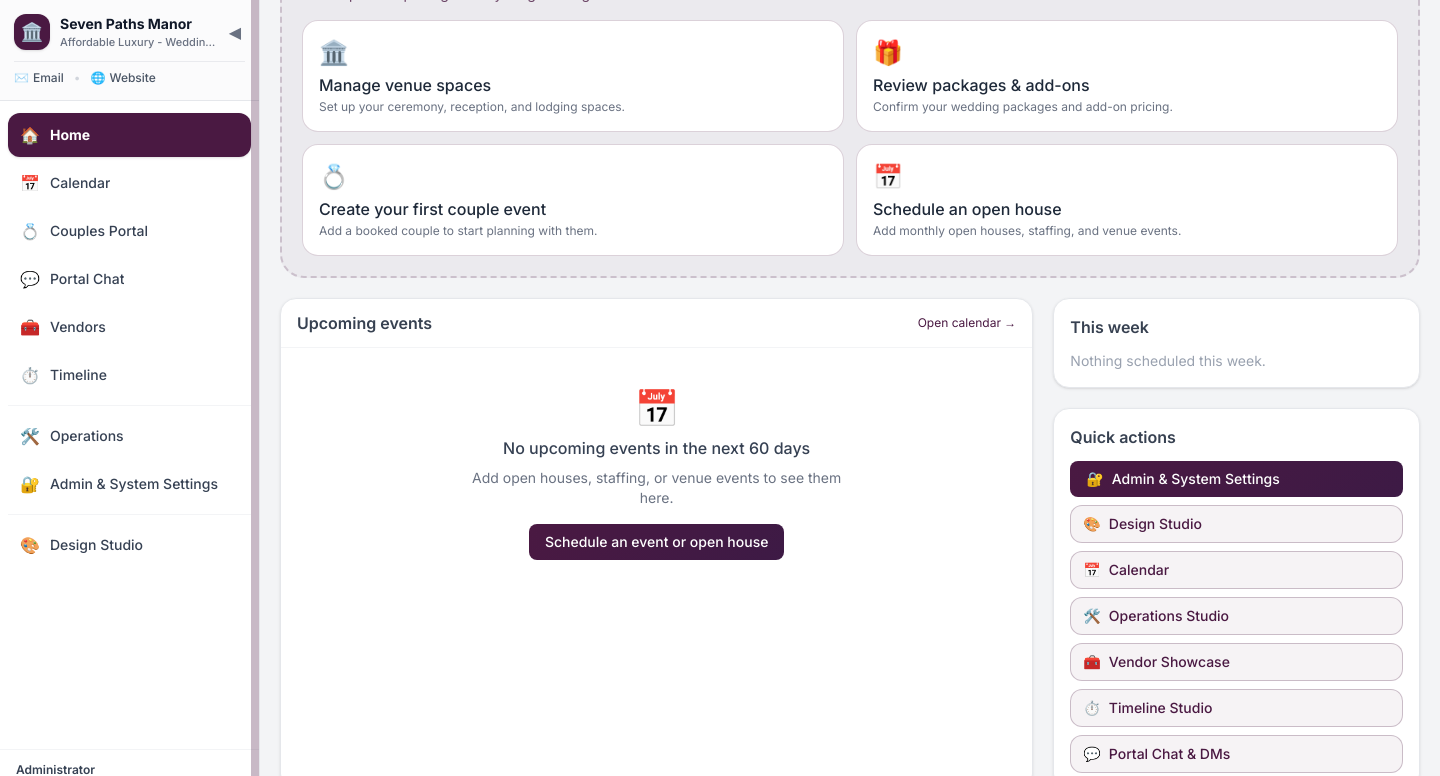
it: Venue Portal Navigation & Dashboard Inline Panels (#144) › keeps user on #/home when clicking Vendors and closing Vendors returns to dashboard home
(page scrolled)
# Click "Vendor Showcase" quick action button
What coordinates should you click on to do the following:
click the button "🧰 Vendor Showcase"
I would click on:
 (1169, 662)
Its box is top-left (1070, 643), bottom-right (1403, 681).
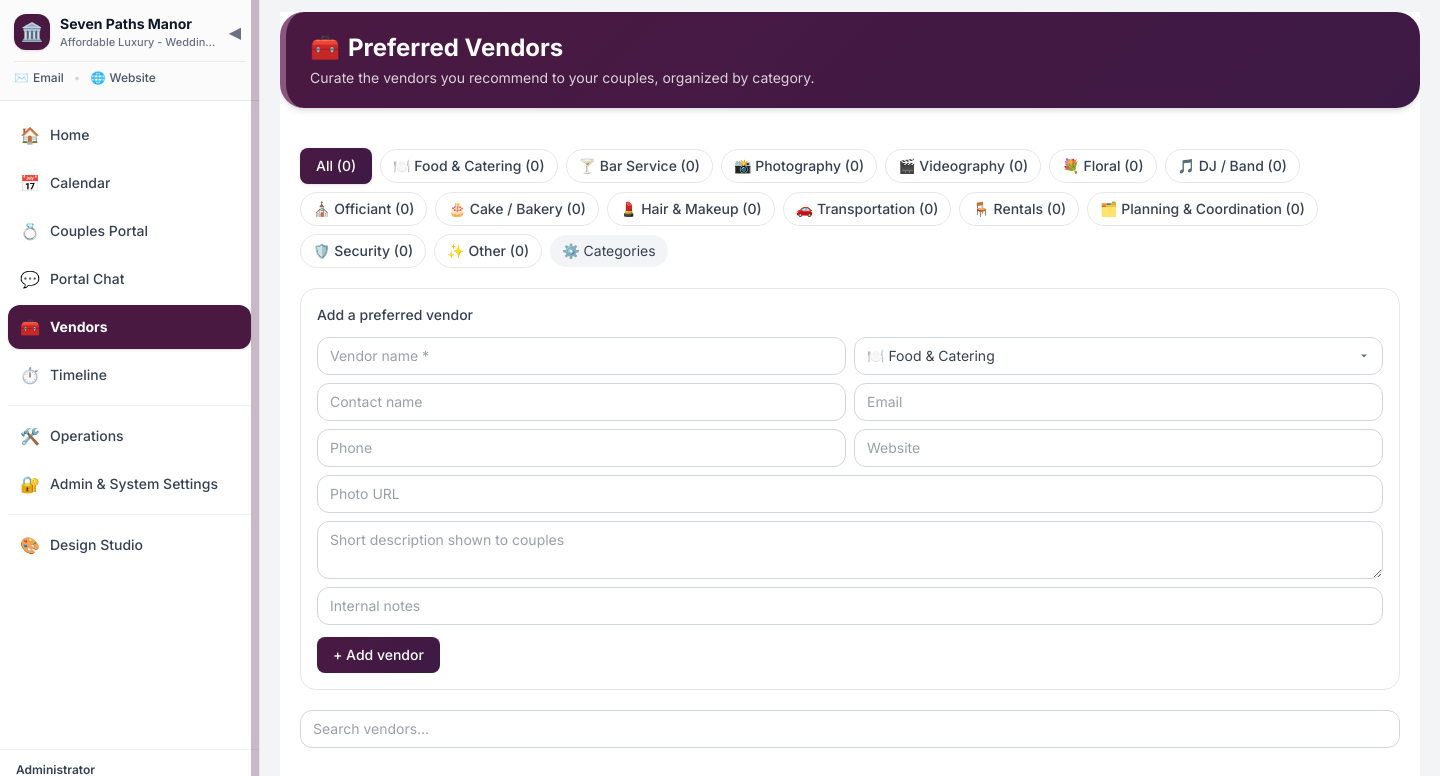
Expected: the heading "🧰 Preferred Vendors" is shown, top-left (310, 33), bottom-right (563, 62)
# Click Home button in sidebar to return to dashboard home
What coordinates should you click on to do the following:
click the button "🏠 Home"
I would click on:
 (130, 134)
Its box is top-left (8, 112), bottom-right (251, 156).
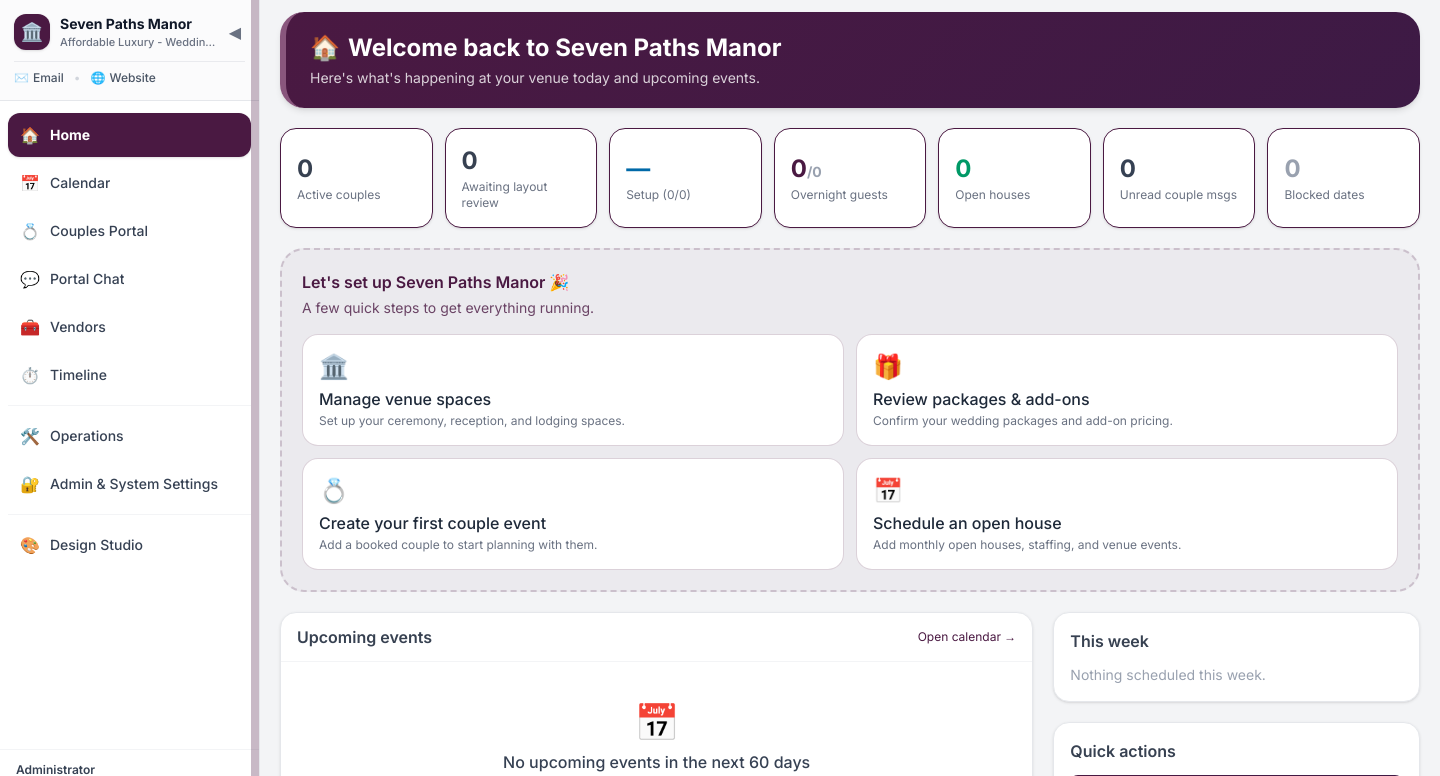
Expected: the text "Preferred Vendors" is gone
Expected: the text "Welcome back to Seven Paths Manor" is shown, top-left (348, 32), bottom-right (781, 64)
